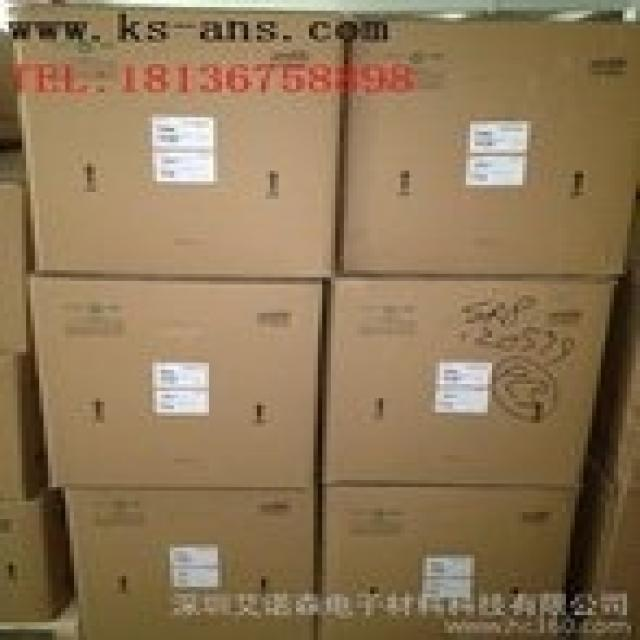box: (9, 0, 344, 279), (338, 10, 636, 275), (25, 274, 322, 488), (322, 275, 615, 487), (318, 485, 580, 636), (63, 488, 314, 636), (0, 487, 75, 623), (0, 151, 38, 351), (1, 352, 44, 500)
